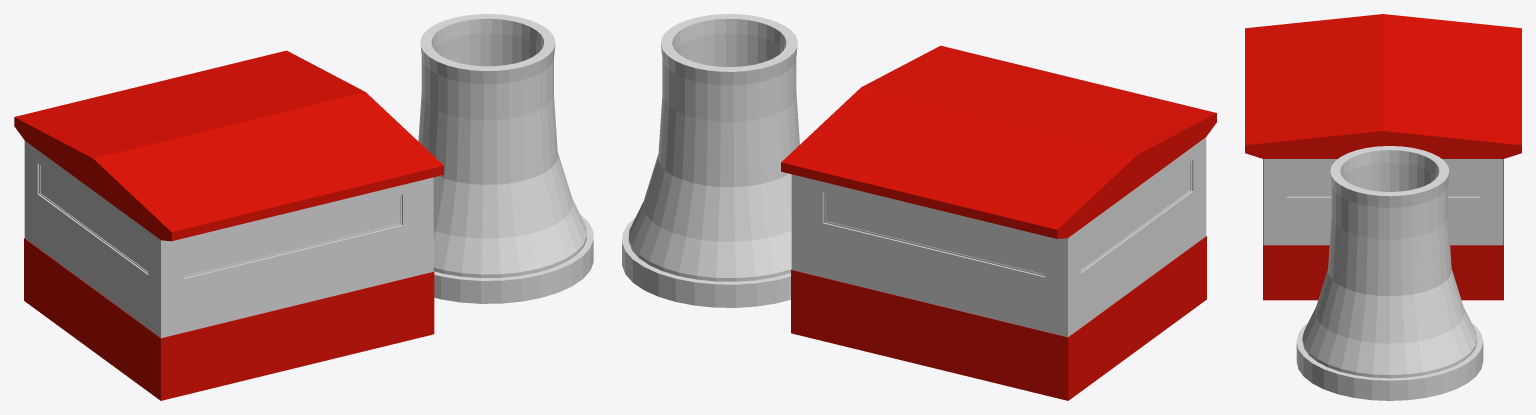
Rendered from SimpleIndustrialBuildings3and4.fbx.
3 views of the same model, side by side, from view 1: azimuth 30°, elevation 25°; view 2: azimuth 150°, elevation 25°; view 3: azimuth 270°, elevation 25° (orthographic). The views are drawn at different scales.
Parts seen in each view (by area): view 1: BuildingBase2, BuildingBase2Roof, Cylinder.001; view 2: BuildingBase2, BuildingBase2Roof, Cylinder.001; view 3: BuildingBase2Roof, Cylinder.001, BuildingBase2.
Boxes of the visible parts, x1,y1,x2,y2 form: BuildingBase2: (24, 141, 434, 400); BuildingBase2Roof: (14, 50, 443, 241); Cylinder.001: (418, 14, 593, 303); BuildingBase2: (791, 137, 1206, 400); BuildingBase2Roof: (781, 45, 1216, 238); Cylinder.001: (622, 14, 799, 307); BuildingBase2Roof: (1245, 14, 1521, 158); Cylinder.001: (1296, 146, 1483, 400); BuildingBase2: (1263, 159, 1503, 300).
Size of the model in its own units: 10163 by 4284 by 5642.
